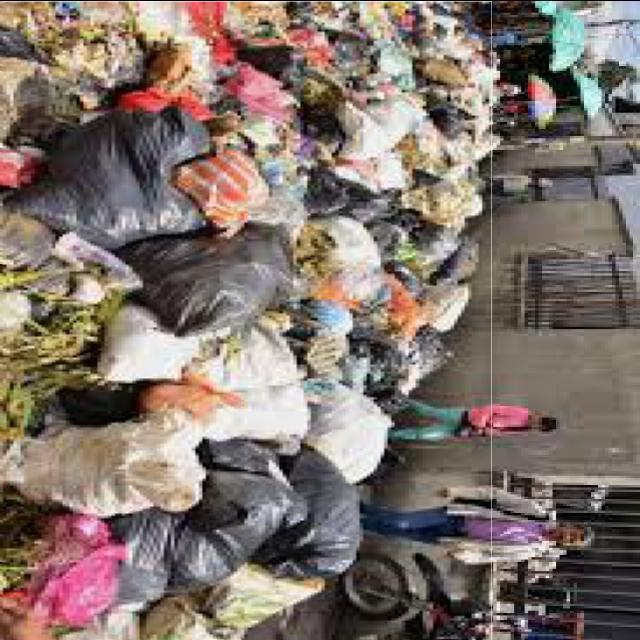Trashbag: (132, 218, 288, 328), (45, 127, 191, 233), (278, 448, 352, 582), (191, 469, 276, 568), (124, 508, 196, 604), (314, 178, 387, 220)
